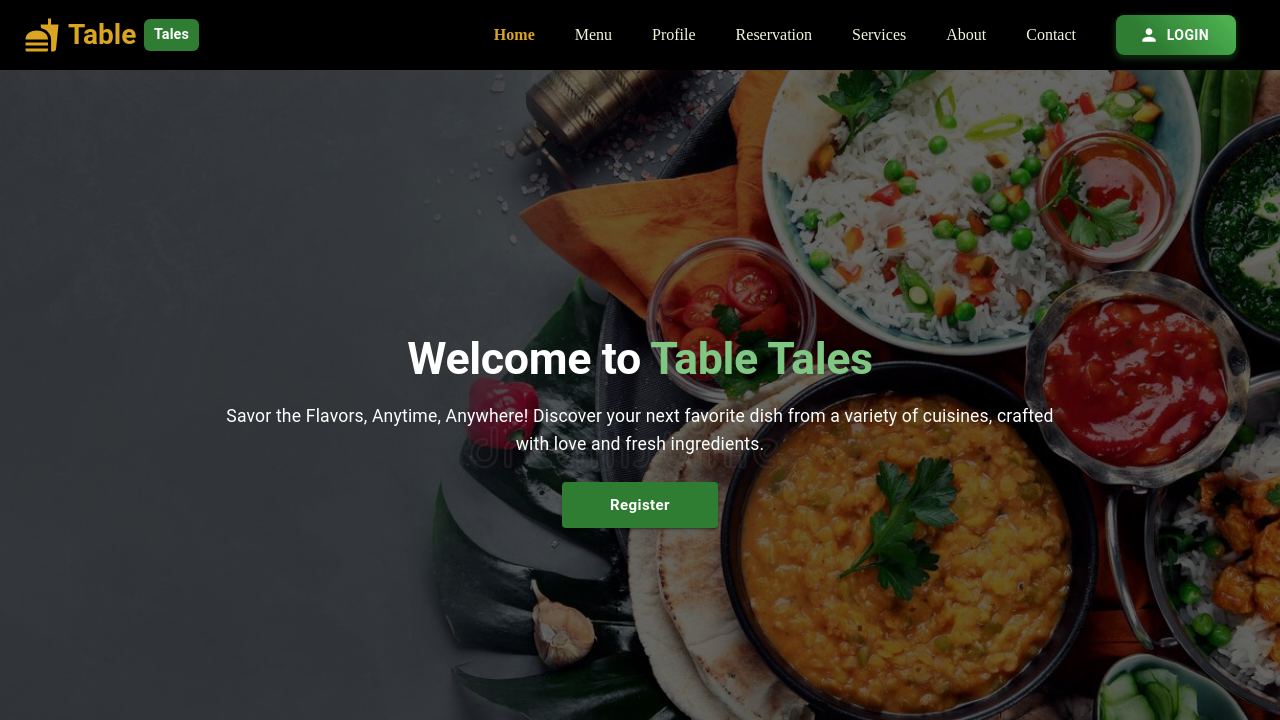
Scenario: Home Page › Registration Dialog › should open and close registration dialog
# Open dialog
Click the button "Register" at (640, 505), box [562, 482, 718, 527]
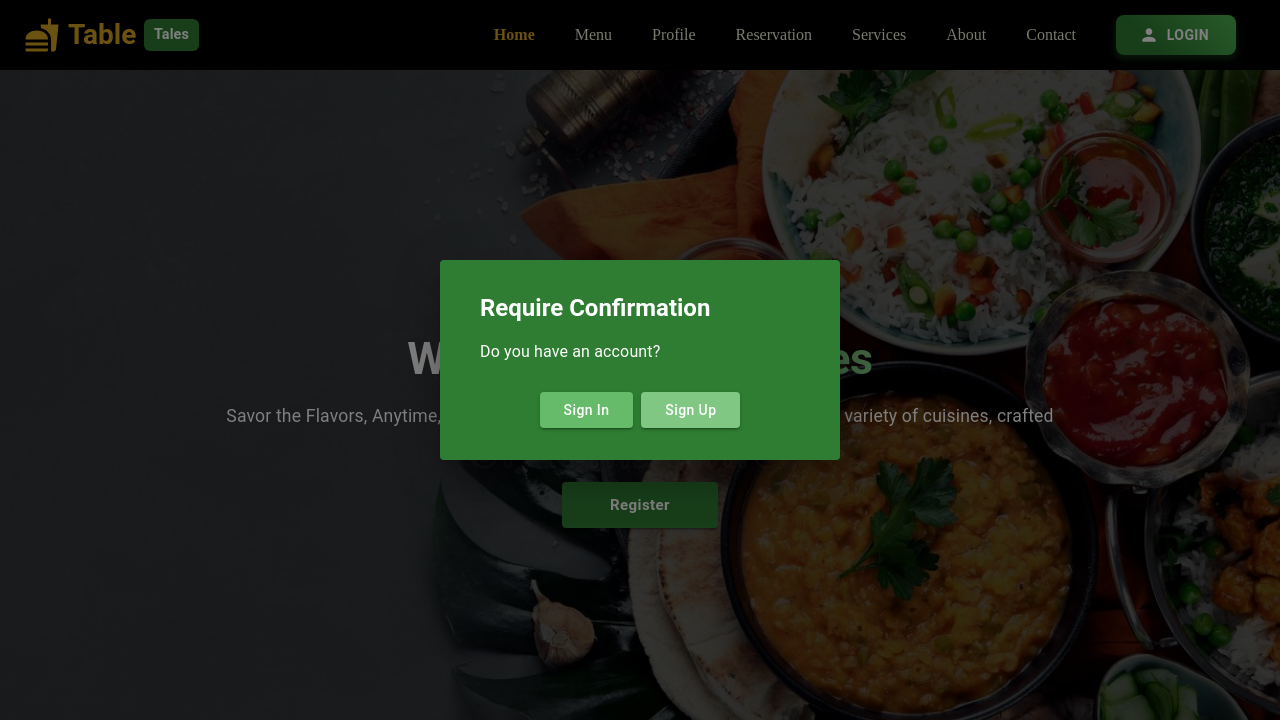
Result: the heading "Require Confirmation" is shown at [480, 294, 710, 322]
Result: the text "Do you have an account?" is shown at [480, 342, 660, 361]
# Close dialog with Escape key
Press Esc
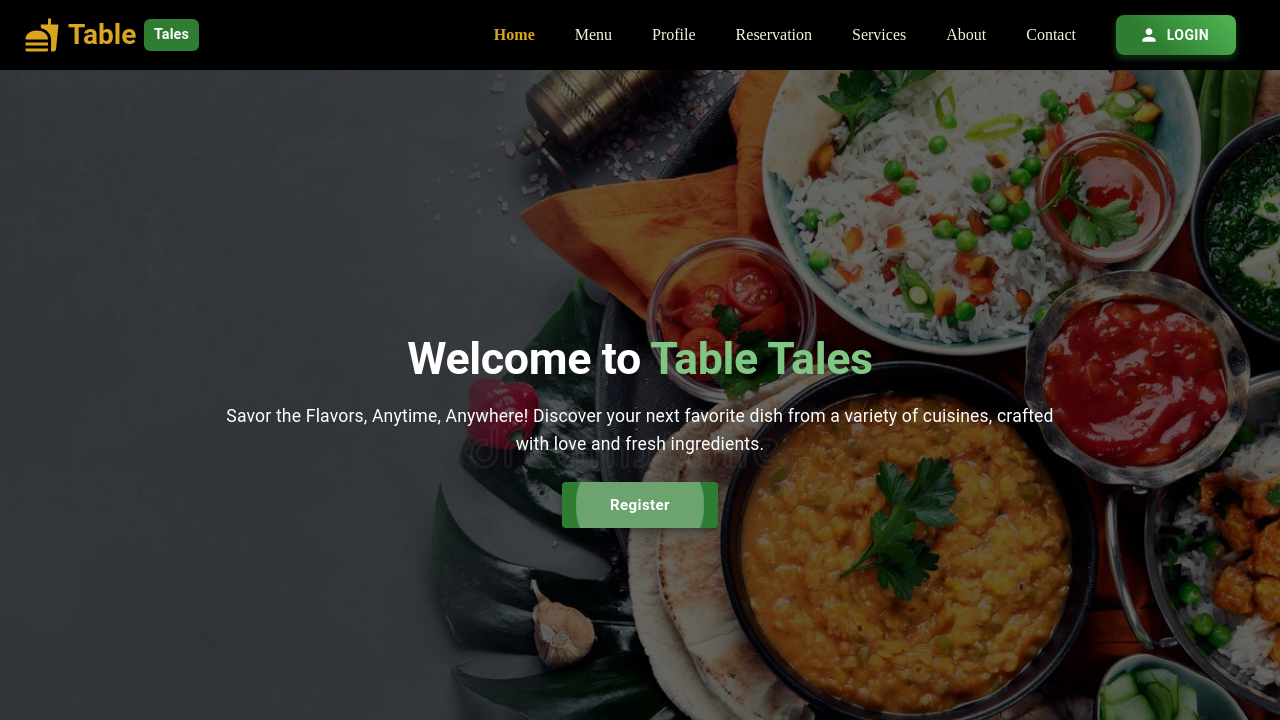
Result: the heading "Require Confirmation" is gone
